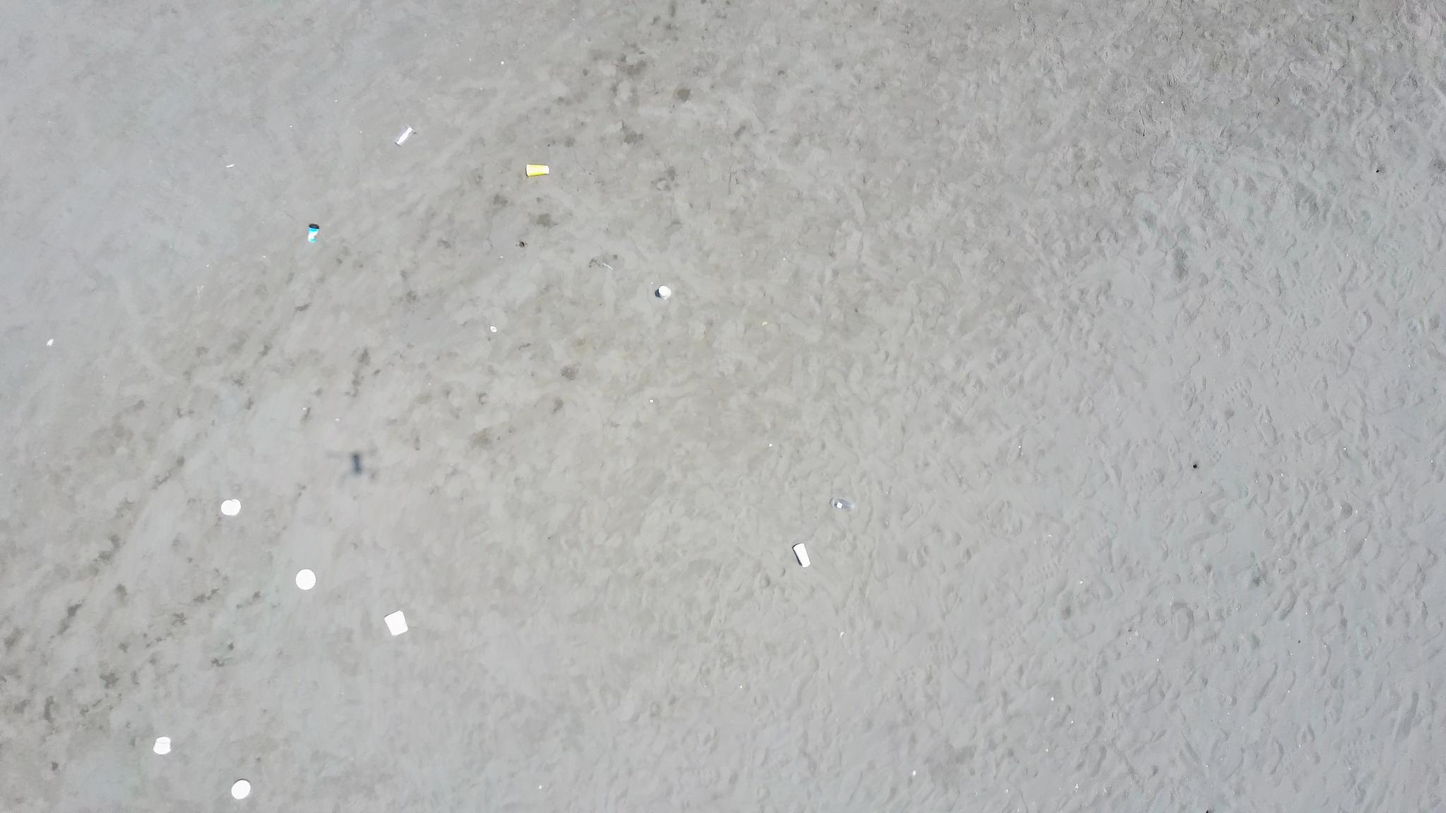Garbage: (383, 611, 407, 635), (791, 542, 810, 567), (294, 568, 315, 589), (231, 778, 251, 800), (220, 499, 240, 516), (395, 126, 413, 144), (153, 735, 170, 754), (525, 164, 549, 176), (832, 499, 854, 510), (655, 285, 671, 299), (307, 224, 318, 241), (46, 339, 54, 346)
